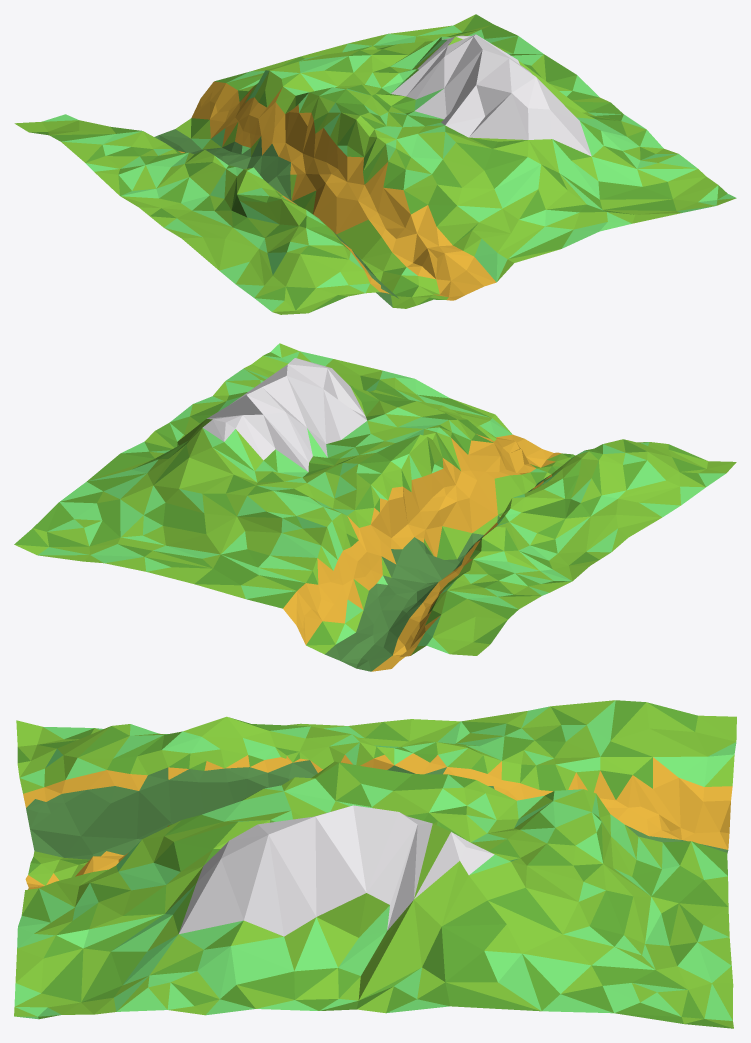
The model's file is land.gltf.
The picture shows the model from 3 angles, top to bottom: view 1: azimuth 30°, elevation 25°; view 2: azimuth 150°, elevation 25°; view 3: azimuth 270°, elevation 25°; orthographic projection. The views are drawn at different scales.
Visible parts, largest first — view 1: Grid; view 2: Grid; view 3: Grid.
Part boxes in pixels (x1,y1,x2,y2): Grid: (14, 14, 736, 314); Grid: (14, 343, 736, 671); Grid: (14, 700, 736, 1028).
Bounding box in the file's own units: 4120 × 1224 × 4079.
